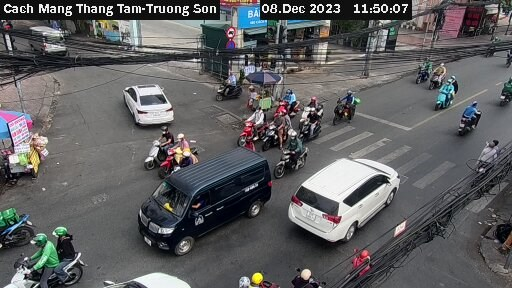car: (137, 148, 269, 243), (285, 153, 399, 241), (119, 82, 176, 128)
motorbike: (14, 228, 85, 284), (1, 195, 32, 256), (271, 135, 314, 172), (330, 90, 363, 128), (237, 110, 270, 146), (450, 100, 480, 137), (473, 133, 500, 172), (142, 130, 179, 158), (430, 81, 459, 116), (410, 56, 437, 85), (295, 94, 323, 120), (300, 115, 329, 139), (428, 64, 455, 88), (275, 90, 301, 111)
